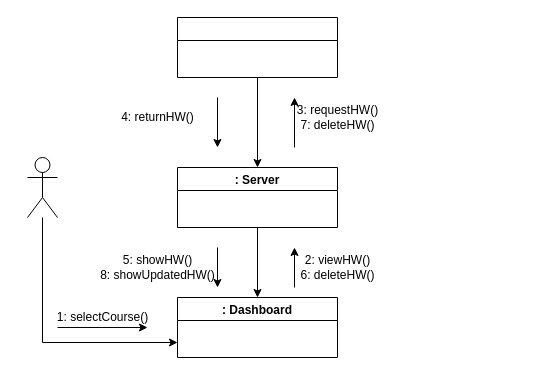
The diagram is 533 pixels wide and 375 high, and some of its shapes have lost their labels. Here are the shapes that lost their labels. From the top down, the box of each, then its label:
(176, 16, 338, 78): : Database
(26, 156, 58, 218): Instructor
